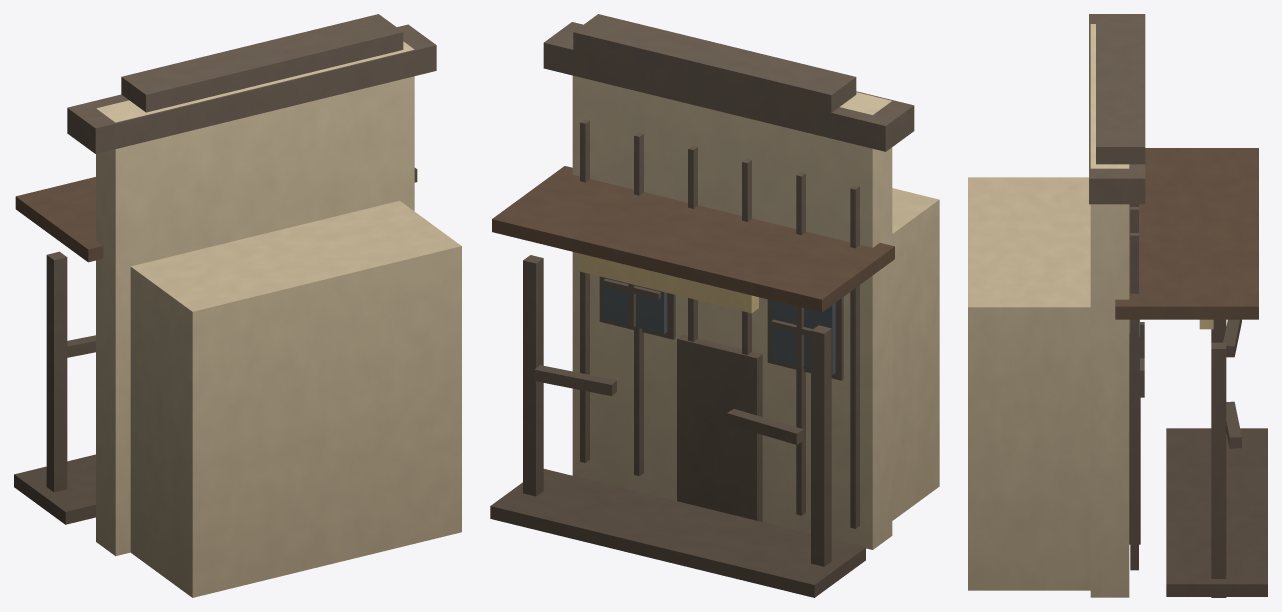
Rendered from hero_town_store.glb.
The picture shows the model from 3 angles, left to right: view 1: azimuth 30°, elevation 25°; view 2: azimuth 150°, elevation 25°; view 3: azimuth 270°, elevation 25°; orthographic projection.
Visible parts, largest first — view 1: hero_town_store; view 2: hero_town_store; view 3: hero_town_store.
Part boxes in pixels (bbox=[...]): hero_town_store: bbox=[14, 14, 461, 597]; hero_town_store: bbox=[490, 14, 939, 597]; hero_town_store: bbox=[968, 14, 1267, 597].
Bounding box in the file's own units: 2.22 × 2.81 × 1.71.
Materials: 1 (1 with a texture image).
